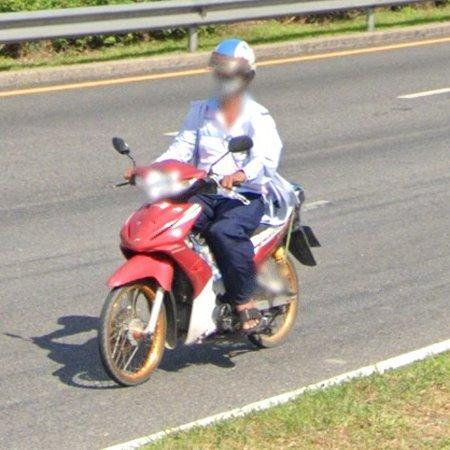motorcycles: (250, 187, 320, 348)
